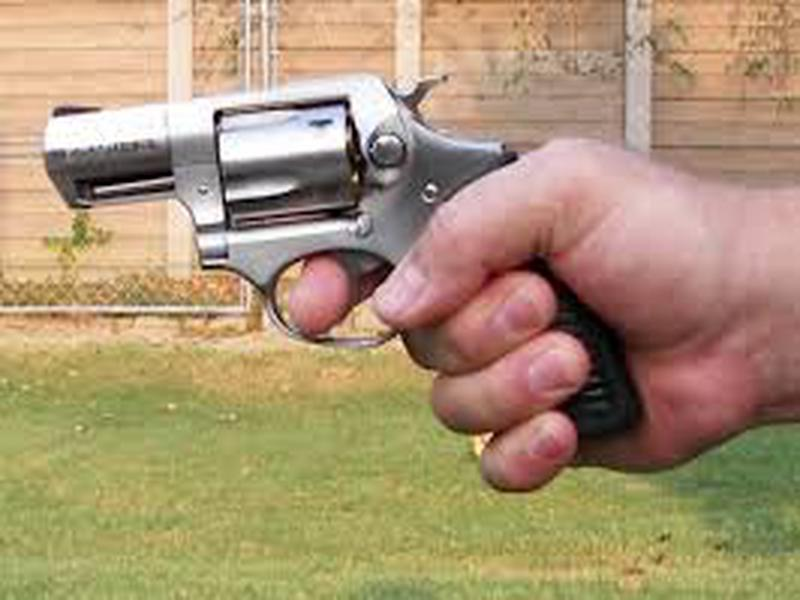gun: (37, 67, 732, 486)
